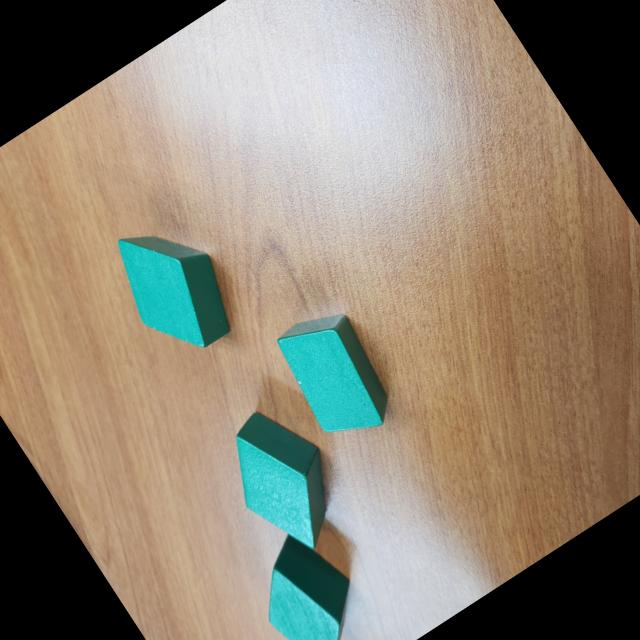green: (204, 392, 364, 568), (95, 200, 252, 370), (266, 298, 406, 454), (232, 515, 390, 640)
